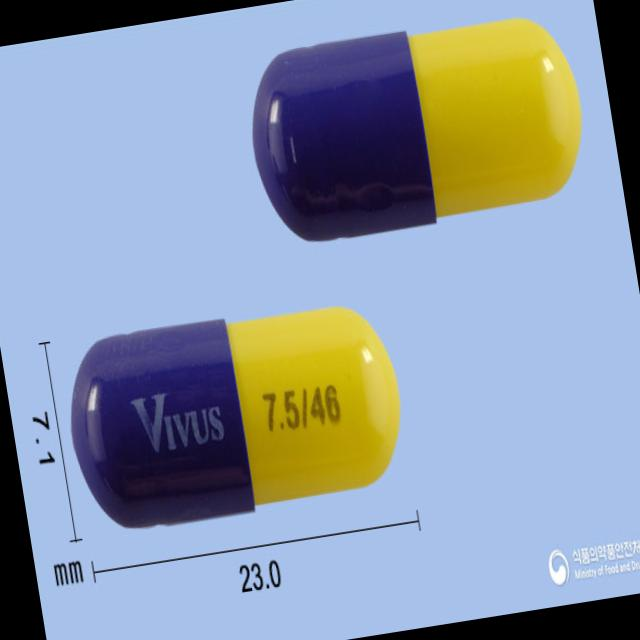Qsymia Cap-7-5mg: (57, 292, 416, 540)
